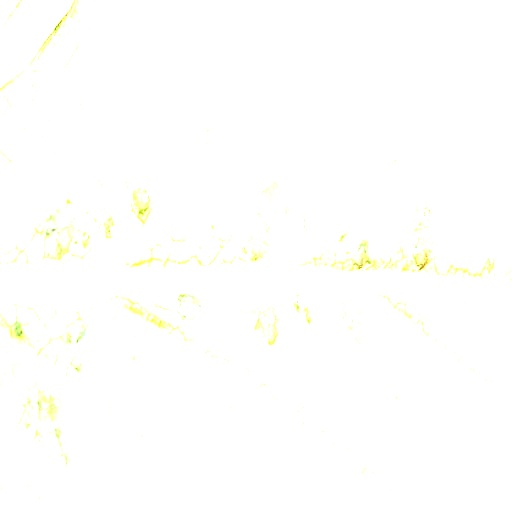Angular Leafspot: (0, 112, 509, 481)
